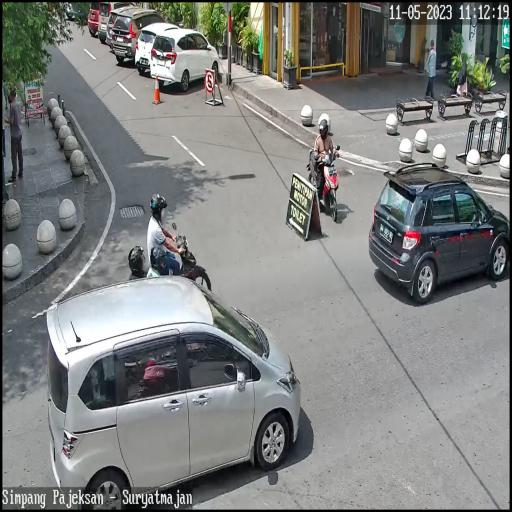mobil: (42, 274, 302, 486), (368, 153, 508, 313), (150, 25, 217, 99), (134, 20, 184, 82), (111, 7, 164, 63)
motor: (146, 237, 214, 297), (307, 142, 343, 222)
